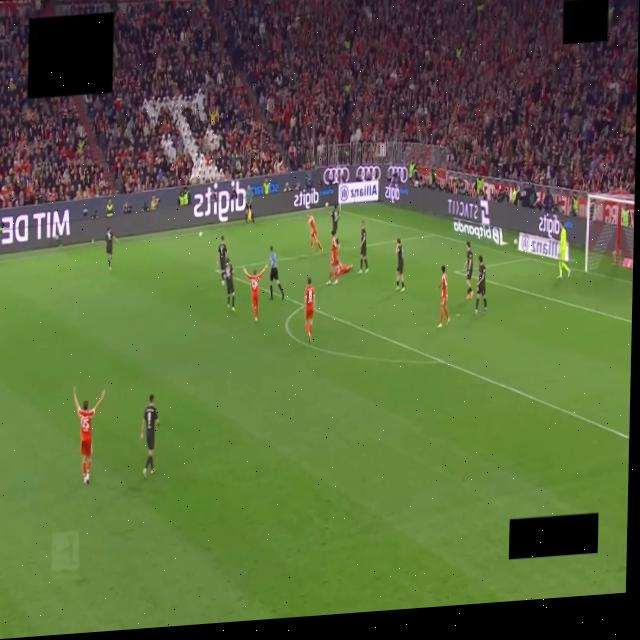ball: (200, 232, 203, 236)
player: (73, 386, 104, 484), (140, 395, 158, 477), (244, 267, 266, 322), (474, 255, 486, 315), (438, 266, 449, 327), (304, 278, 314, 343), (558, 223, 569, 278), (326, 235, 338, 285), (223, 258, 234, 310), (308, 214, 322, 252), (104, 228, 116, 270), (358, 221, 367, 274), (464, 242, 472, 300), (218, 236, 226, 286), (396, 239, 403, 291), (331, 205, 339, 237), (337, 262, 352, 275)
referee: (269, 246, 283, 300)
